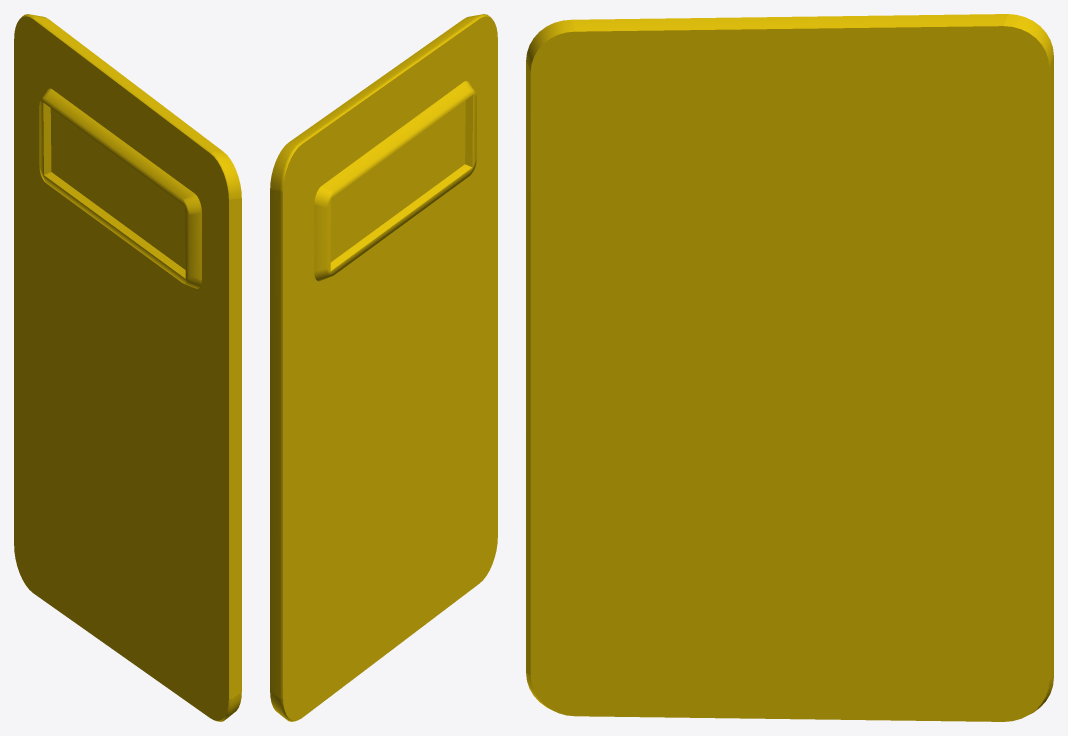
Rendered from Code_Machine_05.fbx.
3 renders of one model, left to right at view 1: azimuth 30°, elevation 25°; view 2: azimuth 150°, elevation 25°; view 3: azimuth 270°, elevation 25°, orthographic. The views are drawn at different scales.
Visible parts, largest first — view 1: Code_Machine_05; view 2: Code_Machine_05; view 3: Code_Machine_05.
Boxes of the visible parts, x1,y1,x2,y2 form: Code_Machine_05: [14, 14, 241, 721]; Code_Machine_05: [270, 14, 497, 721]; Code_Machine_05: [526, 14, 1053, 721].
Bounding box in the file's own units: 1.2 × 27.42 × 18.59.
